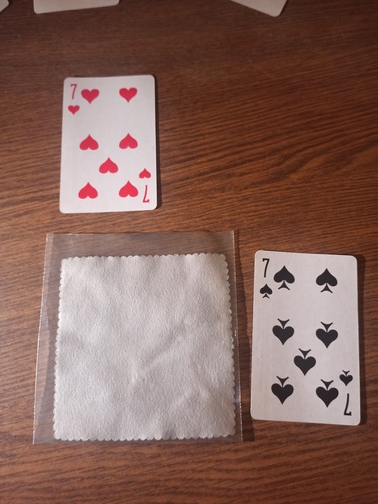sevenhearts: (59, 76, 161, 211)
sevenspades: (249, 250, 360, 423)
